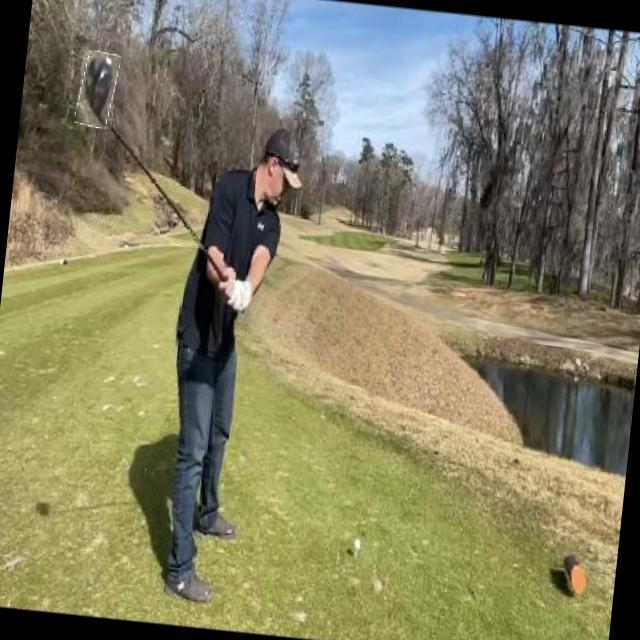club head: (75, 50, 119, 129)
